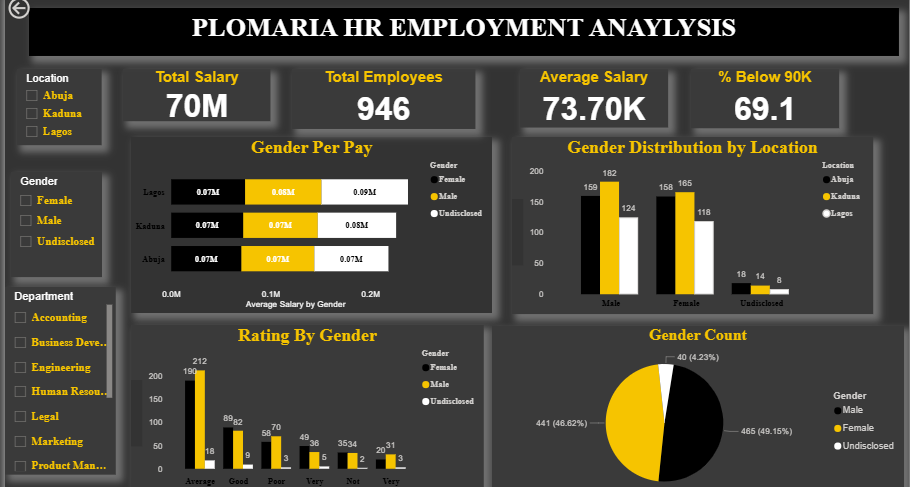

This screenshot's page, from the dashboard's own definition file:
{"tool":"powerbi","page":{"name":"Page 1","canvas":[1280,720],"ordinal":0},"visuals":[{"type":"card","title":"Average Salary","fields":{"Values":["Palmoria Group HR emp-data.Average Salary by Gender"]},"box":[730,106.7,210,83.3],"z":0},{"type":"card","title":"Total Employees","fields":{"Values":["Palmoria Group HR emp-data.Gender Count"]},"box":[406.2,106.2,260,84.6],"z":1000},{"type":"card","title":"Total Salary","fields":{"Values":["Sum(Palmoria Group HR emp-data.Salary)"]},"box":[167.7,106.2,209.2,73.8],"z":2000},{"type":"card","title":"% Below 90K","fields":{"Values":["BonusID.Below 90%"]},"box":[972,106,210,84],"z":3000},{"type":"textbox","box":[33.3,20,1233.3,68.3],"z":4000},{"type":"clusteredColumnChart","title":"Gender Distribution by Location","fields":{"Y":["Palmoria Group HR emp-data.Gender Count"],"Series":["Palmoria Group HR emp-data.Location"],"Category":["Palmoria Group HR emp-data.Gender"]},"box":[718.6,202.7,511.7,250.9],"z":5000},{"type":"barChart","title":"Gender Per Pay","fields":{"Category":["Palmoria Group HR emp-data.Location"],"Y":["Palmoria Group HR emp-data.Average Salary by Gender"],"Series":["Palmoria Group HR emp-data.Gender"]},"box":[179.1,203,511.9,249.3],"z":6000},{"type":"clusteredColumnChart","title":"Rating By Gender","fields":{"Category":["Palmoria Group HR emp-data.Rating"],"Y":["Palmoria Group HR emp-data.Gender Count"],"Series":["Palmoria Group HR emp-data.Gender"]},"box":[179.1,468.7,500,250.7],"z":7000},{"type":"actionButton","box":[0,0,100,40],"z":8000},{"type":"slicer","fields":{"Values":["Palmoria Group HR emp-data.Location"]},"box":[17,106.3,120.5,107.7],"z":9000},{"type":"slicer","fields":{"Values":["Palmoria Group HR emp-data.Gender"]},"box":[8.5,252.3,129,148.8],"z":10000},{"type":"slicer","fields":{"Values":["Palmoria Group HR emp-data.Department"]},"box":[0,414.9,156.7,265.7],"z":11000},{"type":"pieChart","title":"Gender Count","fields":{"Y":["Palmoria Group HR emp-data.Gender Count"],"Category":["Palmoria Group HR emp-data.Gender"]},"box":[690.2,470.6,583.9,249.4],"z":12000},{"type":"shape","box":[717.9,291,16.4,94],"z":13000},{"type":"shape","box":[179.1,547.8,16.4,94],"z":14000}]}

Visuals, with their boxes on the page's 1280x720 design canvas (x1, y1, x2, y2). These are canvas units, not pixel positions in the 910x487 screenshot, which may show the page scaled, cropped or inside an application window:
"Average Salary" card: left=730, top=107, right=940, bottom=190
"Total Employees" card: left=406, top=106, right=666, bottom=191
"Total Salary" card: left=168, top=106, right=377, bottom=180
"% Below 90K" card: left=972, top=106, right=1182, bottom=190
textbox: left=33, top=20, right=1267, bottom=88
"Gender Distribution by Location" clusteredColumnChart: left=719, top=203, right=1230, bottom=454
"Gender Per Pay" barChart: left=179, top=203, right=691, bottom=452
"Rating By Gender" clusteredColumnChart: left=179, top=469, right=679, bottom=719
actionButton: left=0, top=0, right=100, bottom=40
slicer - Palmoria Group HR emp-data.Location: left=17, top=106, right=138, bottom=214
slicer - Palmoria Group HR emp-data.Gender: left=8, top=252, right=138, bottom=401
slicer - Palmoria Group HR emp-data.Department: left=0, top=415, right=157, bottom=681
"Gender Count" pieChart: left=690, top=471, right=1274, bottom=720
shape: left=718, top=291, right=734, bottom=385
shape: left=179, top=548, right=196, bottom=642
